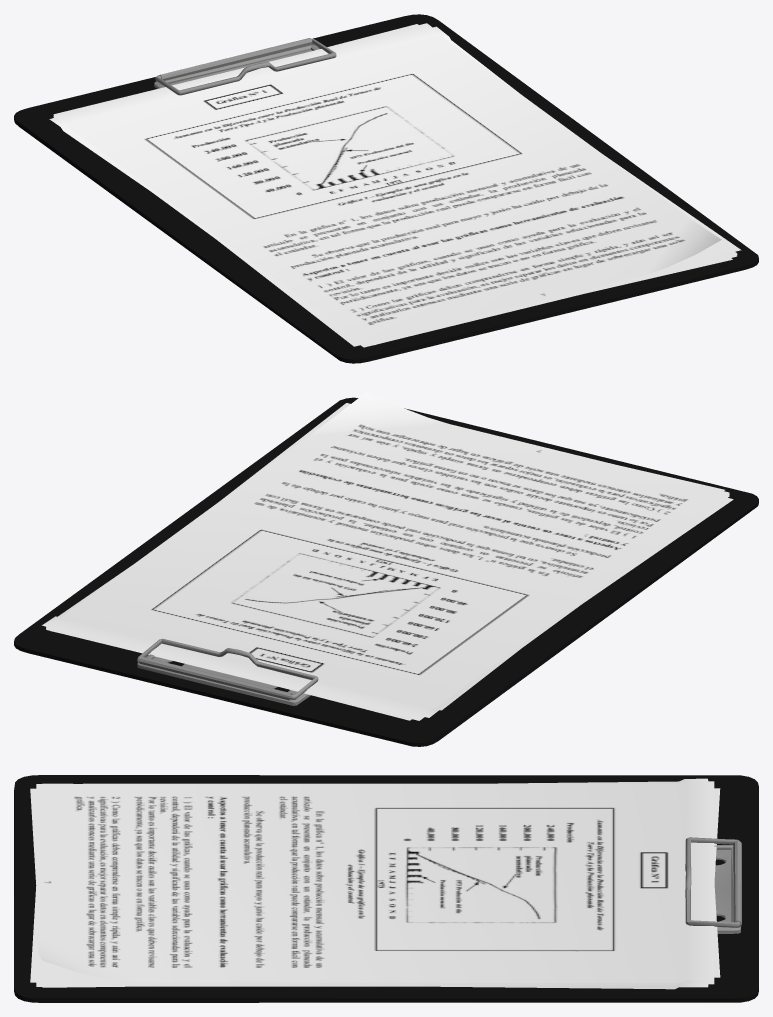
Rendered from Clipboard.FBX.
3 renders of one model, top to bottom at view 1: azimuth 30°, elevation 25°; view 2: azimuth 150°, elevation 25°; view 3: azimuth 270°, elevation 25°, orthographic. The views are drawn at different scales.
Parts seen in each view (by area): view 1: Clipboard; view 2: Clipboard; view 3: Clipboard.
Part boxes in pixels (x1,y1,x2,y2): Clipboard: (14, 14, 758, 363); Clipboard: (14, 392, 758, 746); Clipboard: (14, 775, 758, 1002).
Size of the model in its own units: 24.6 by 1.3 by 34.62.
Materials: 3 (2 with a texture image).
